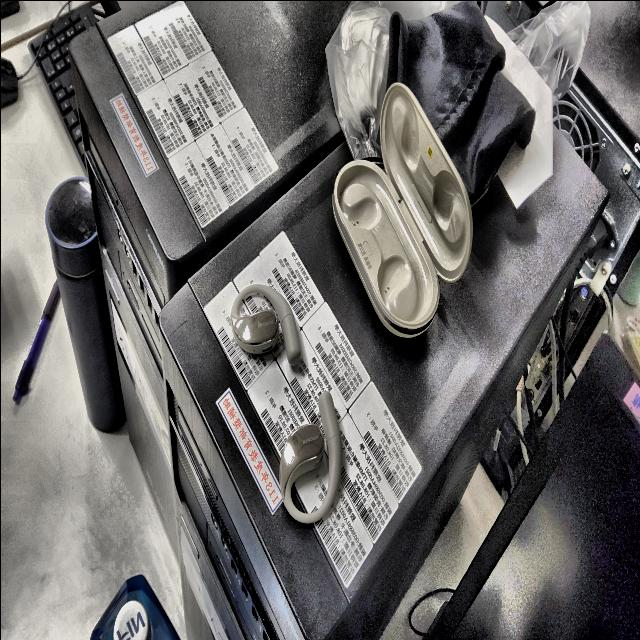Bluetooth headphones: (332, 82, 471, 337), (279, 391, 340, 522), (229, 283, 300, 367)
Keyboard: (28, 3, 96, 159)
